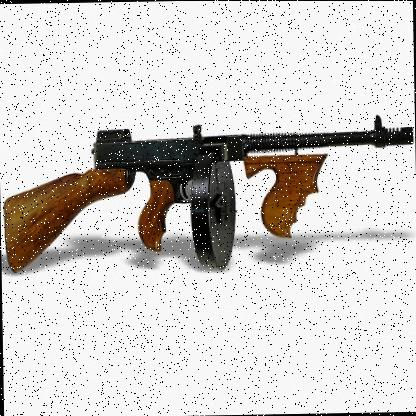rifle: (3, 96, 410, 296)
